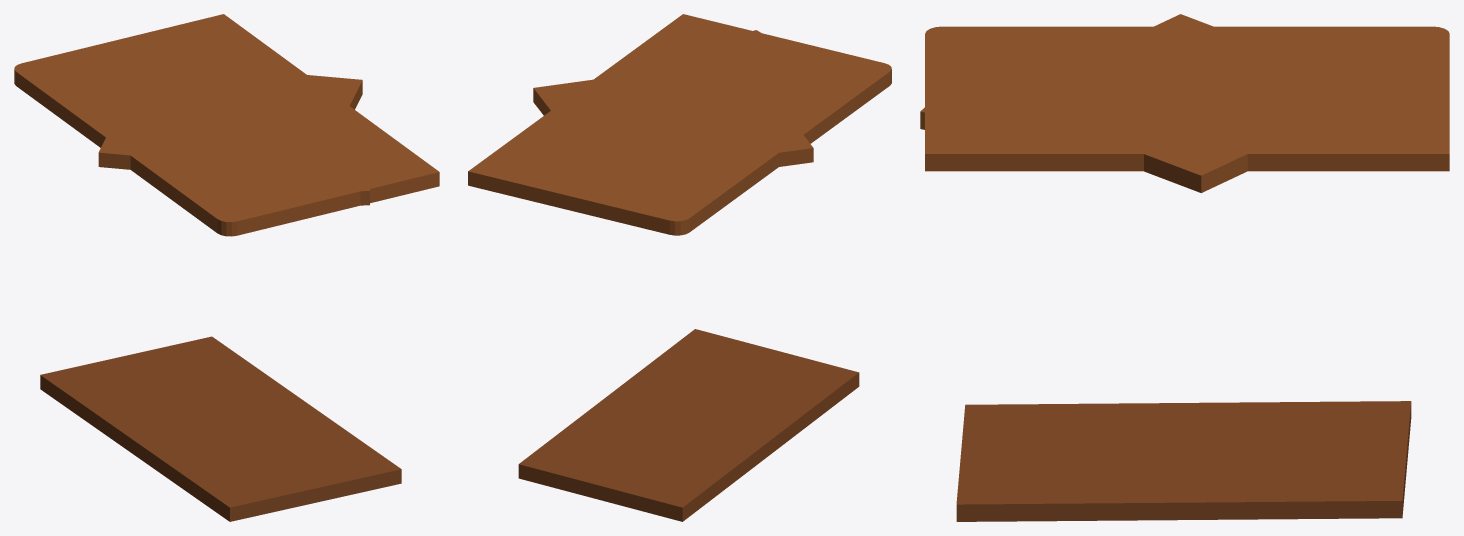
The model's file is support.glb.
The picture shows the model from 3 angles, left to right: view 1: azimuth 30°, elevation 25°; view 2: azimuth 150°, elevation 25°; view 3: azimuth 270°, elevation 25°; orthographic projection. The views are drawn at different scales.
Parts seen in each view (by area): view 1: wooden_table_top, wooden_table_lower_shelf; view 2: wooden_table_top, wooden_table_lower_shelf; view 3: wooden_table_top, wooden_table_lower_shelf.
Boxes of the visible parts, box(x1,y1,x2,y2) form: wooden_table_top: box(14, 14, 439, 236); wooden_table_lower_shelf: box(40, 336, 401, 521); wooden_table_top: box(468, 14, 891, 235); wooden_table_lower_shelf: box(518, 329, 859, 521); wooden_table_top: box(920, 14, 1449, 192); wooden_table_lower_shelf: box(956, 401, 1411, 521).
Size of the model in its own units: 0.4378 by 0.483 by 0.6056.
